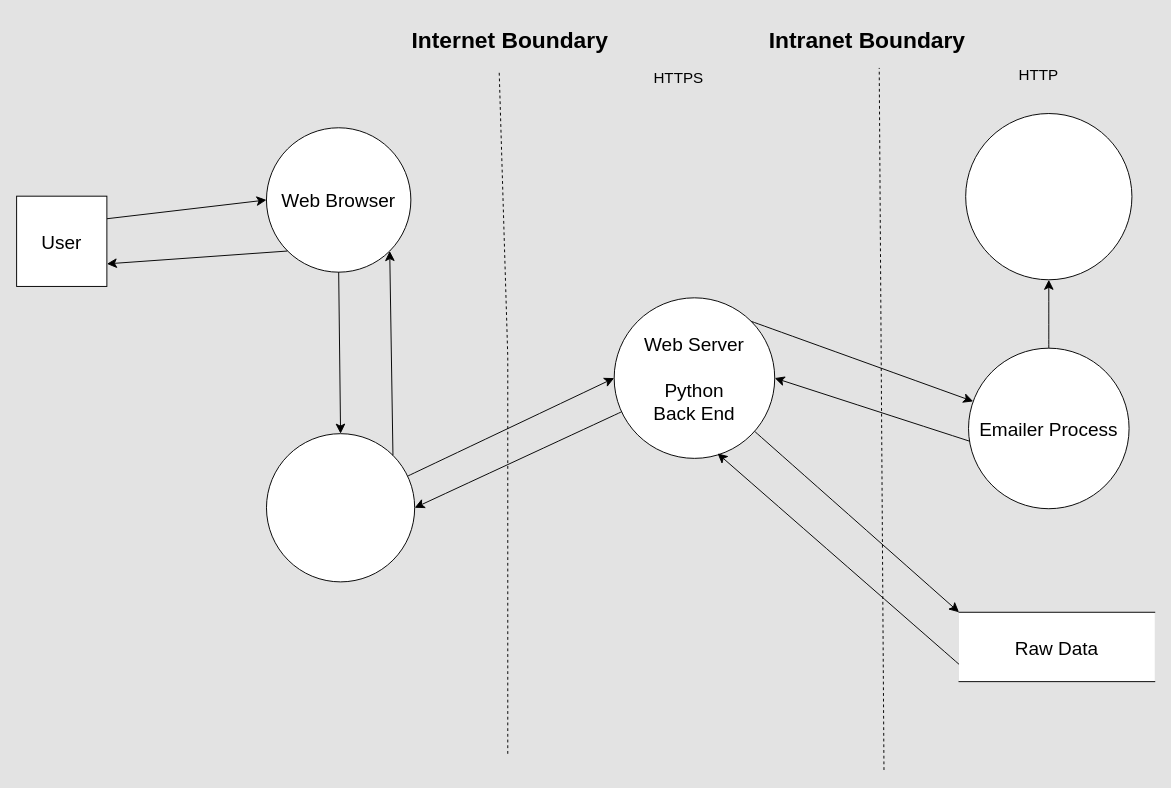
This 1171x788 diagram has some shape labels left out. The shapes that lost their labels are listed below. From the top down, each one's centre as x and y in pixels, then its label:
(x=1048, y=196): SMTP Server
(x=340, y=507): API Gateway
